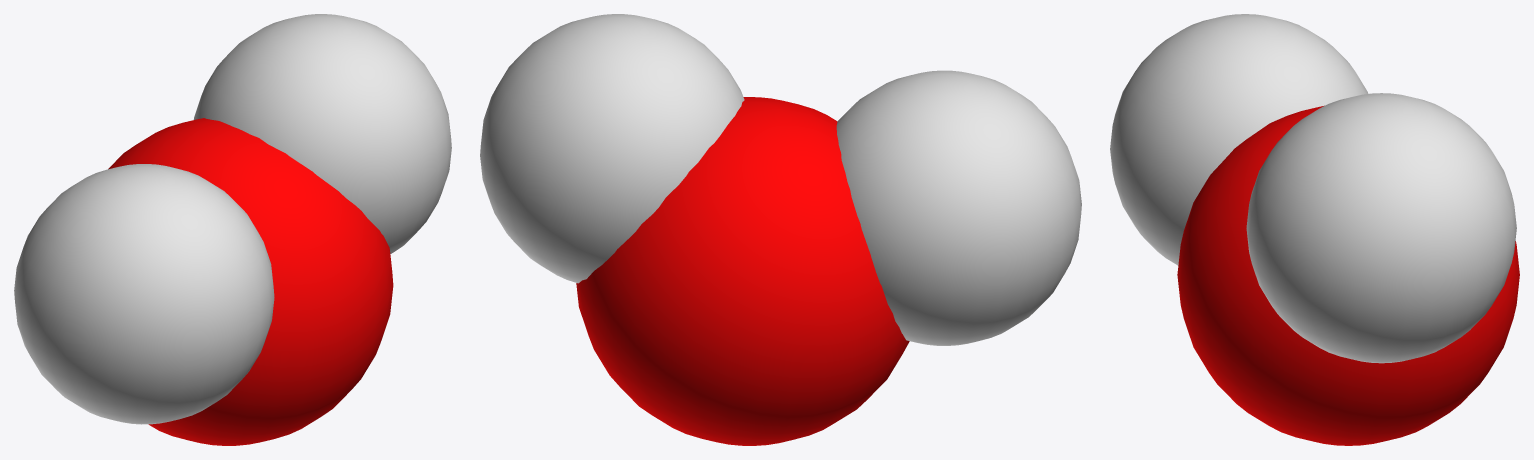
3 views of the same model, side by side, from view 1: azimuth 30°, elevation 25°; view 2: azimuth 150°, elevation 25°; view 3: azimuth 270°, elevation 25° (orthographic). The views are drawn at different scales.
Visible parts, largest first — view 1: Sphere002, Sphere003, Sphere001; view 2: Sphere003, Sphere002, Sphere001; view 3: Sphere001, Sphere003, Sphere002.
Boxes of the visible parts, left/top/right/bottom form: Sphere002: left=14, top=164, right=274, bottom=424; Sphere003: left=108, top=118, right=393, bottom=445; Sphere001: left=193, top=14, right=451, bottom=253; Sphere003: left=576, top=97, right=909, bottom=445; Sphere002: left=836, top=70, right=1081, bottom=345; Sphere001: left=480, top=14, right=744, bottom=283; Sphere001: left=1246, top=93, right=1516, bottom=363; Sphere003: left=1177, top=105, right=1519, bottom=445; Sphere002: left=1110, top=14, right=1368, bottom=265.
Size of the model in its own units: 19.62 by 14.64 by 14.32.
